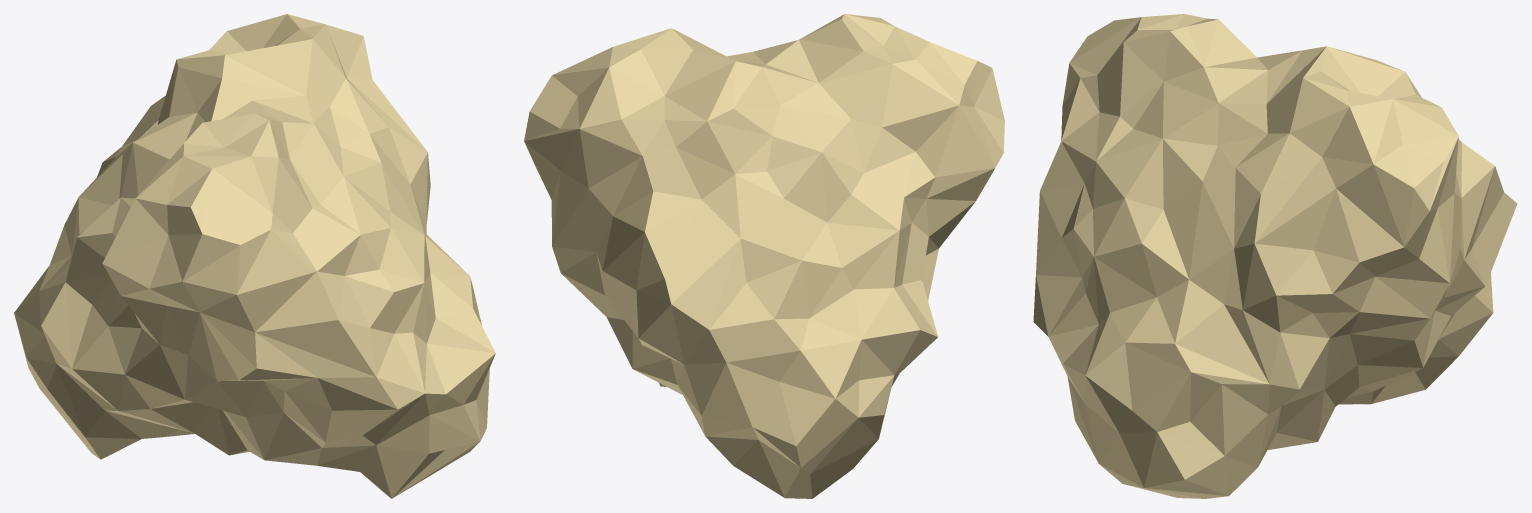
Rendered from Asteroid (46).fbx.
The picture shows the model from 3 angles, left to right: view 1: azimuth 30°, elevation 25°; view 2: azimuth 150°, elevation 25°; view 3: azimuth 270°, elevation 25°; orthographic projection. The views are drawn at different scales.
Parts seen in each view (by area): view 1: Asteroid222; view 2: Asteroid222; view 3: Asteroid222.
Boxes of the visible parts, <box> form: Asteroid222: <box>14,14,495,498</box>; Asteroid222: <box>524,14,1004,498</box>; Asteroid222: <box>1033,14,1517,498</box>.
Size of the model in its own units: 371 by 369 by 398.
